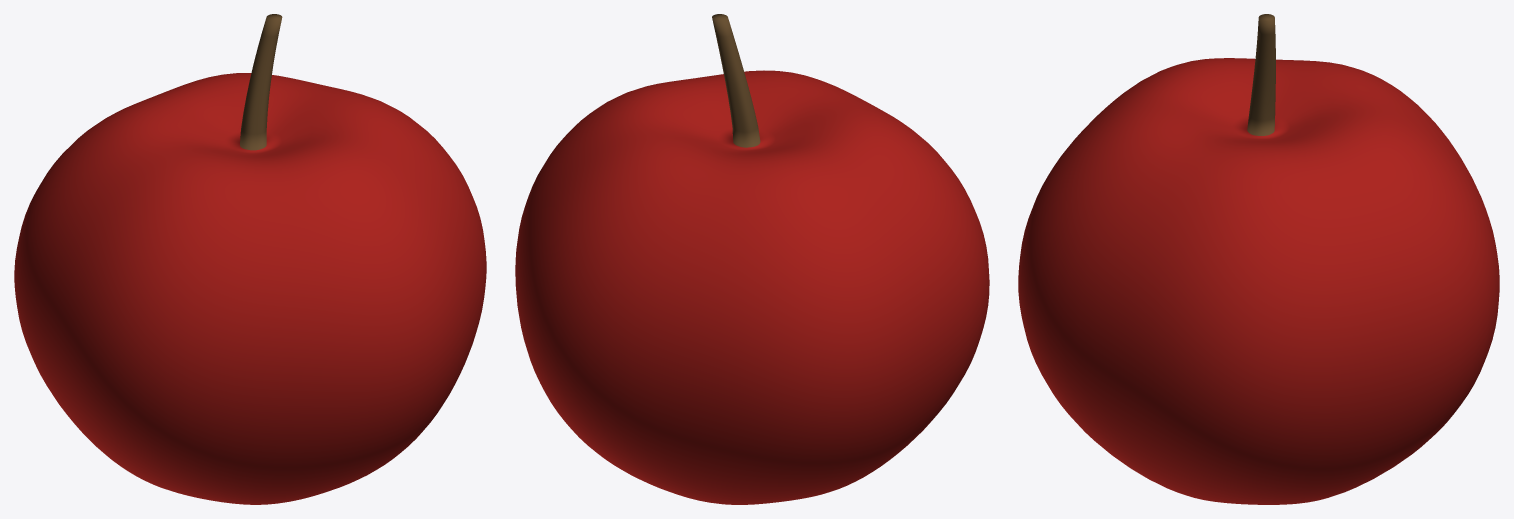
Rendered from A-NEW-20261027-APPLE-001_LOD1_R1.glb.
3 renders of one model, left to right at view 1: azimuth 30°, elevation 25°; view 2: azimuth 150°, elevation 25°; view 3: azimuth 270°, elevation 25°, orthographic. The views are drawn at different scales.
Visible parts, largest first — view 1: continuous original apple body dimple and stem; view 2: continuous original apple body dimple and stem; view 3: continuous original apple body dimple and stem.
Boxes of the visible parts, x1=… form: continuous original apple body dimple and stem: x1=14, y1=14, x2=486, y2=504; continuous original apple body dimple and stem: x1=515, y1=14, x2=989, y2=504; continuous original apple body dimple and stem: x1=1018, y1=14, x2=1499, y2=504.
Size of the model in its own units: 0.0862 by 0.0888 by 0.084.
